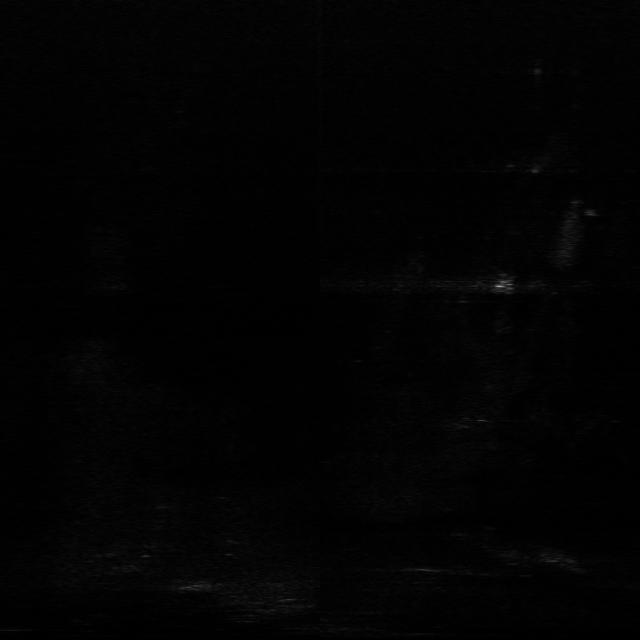rov: (486, 276, 516, 296)
